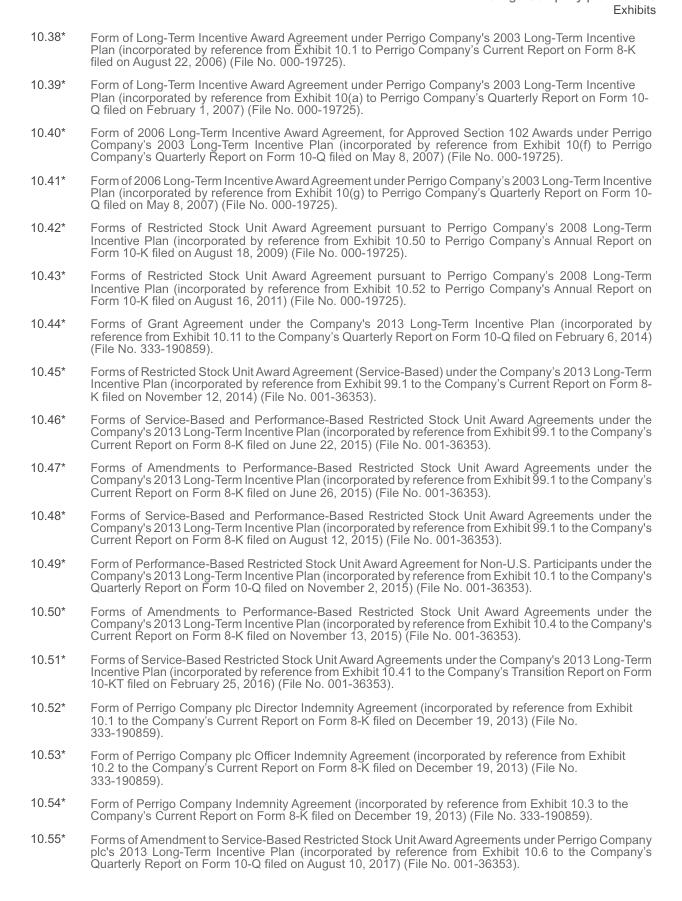table: (29, 28, 650, 869)
table column: (77, 28, 650, 869), (29, 28, 77, 869)
table row: (29, 72, 650, 120), (29, 167, 650, 215), (29, 215, 650, 263), (29, 263, 650, 311), (29, 311, 650, 359), (29, 359, 650, 407), (29, 407, 650, 455), (29, 502, 650, 550), (29, 550, 650, 598), (29, 598, 650, 646), (29, 646, 650, 694), (29, 694, 650, 742), (29, 742, 650, 790), (29, 120, 650, 167), (29, 455, 650, 502), (29, 28, 650, 72), (29, 826, 650, 869), (29, 790, 650, 826)
